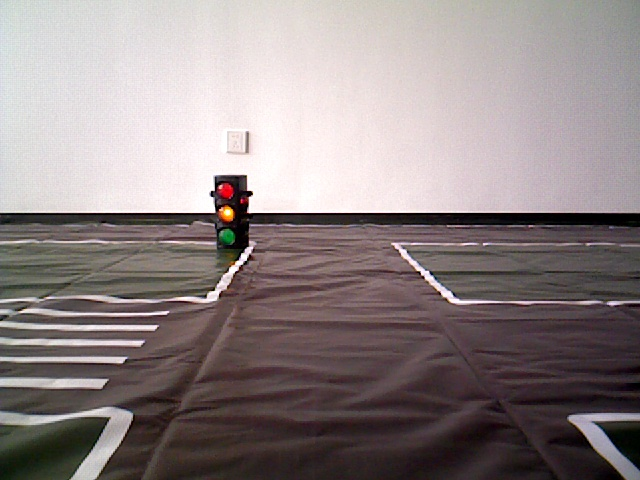yellow: (213, 175, 248, 250)
